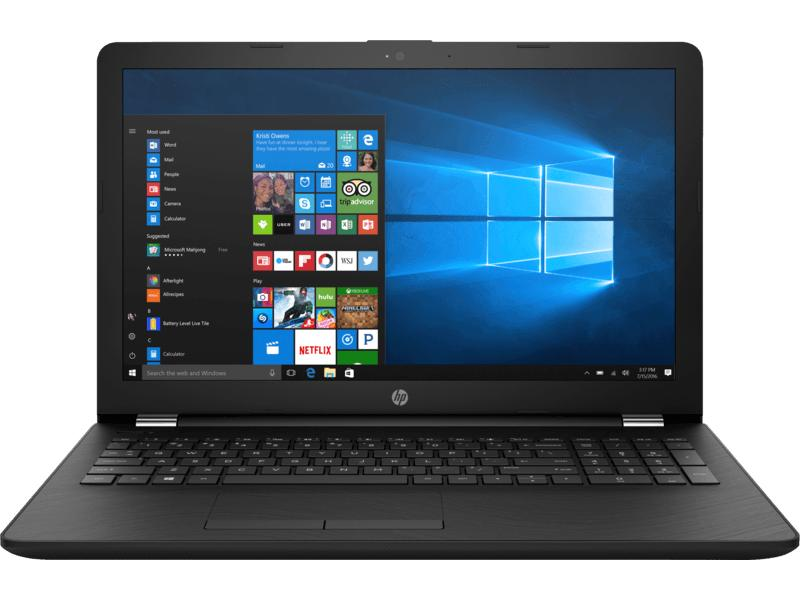Laptop: (1, 35, 800, 570)
